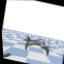drone: (21, 36, 53, 56)
